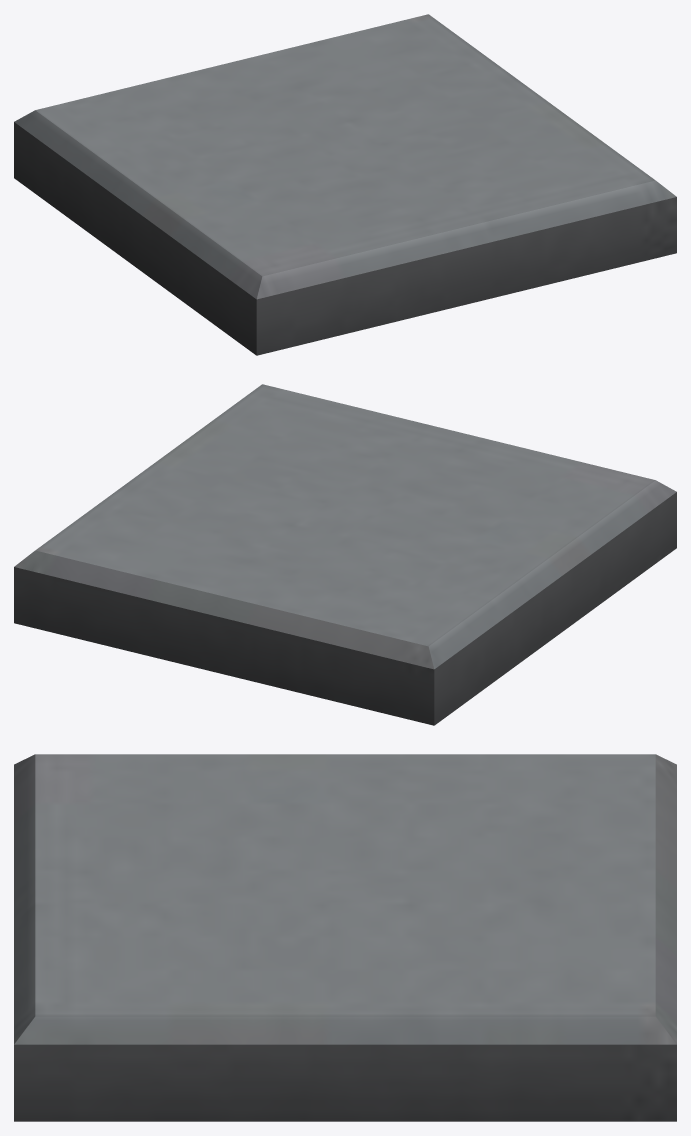
The model's file is concrete.glb.
3 renders of one model, top to bottom at view 1: azimuth 30°, elevation 25°; view 2: azimuth 150°, elevation 25°; view 3: azimuth 270°, elevation 25°, orthographic. The views are drawn at different scales.
Visible parts, largest first — view 1: concrete; view 2: concrete; view 3: concrete.
Boxes of the visible parts, box(x1,y1,x2,y2) form: concrete: box(14, 14, 676, 355); concrete: box(14, 384, 676, 725); concrete: box(14, 754, 676, 1121).
Size of the model in its own units: 0.25 by 0.04 by 0.25.
Materials: 1 (1 with a texture image).
